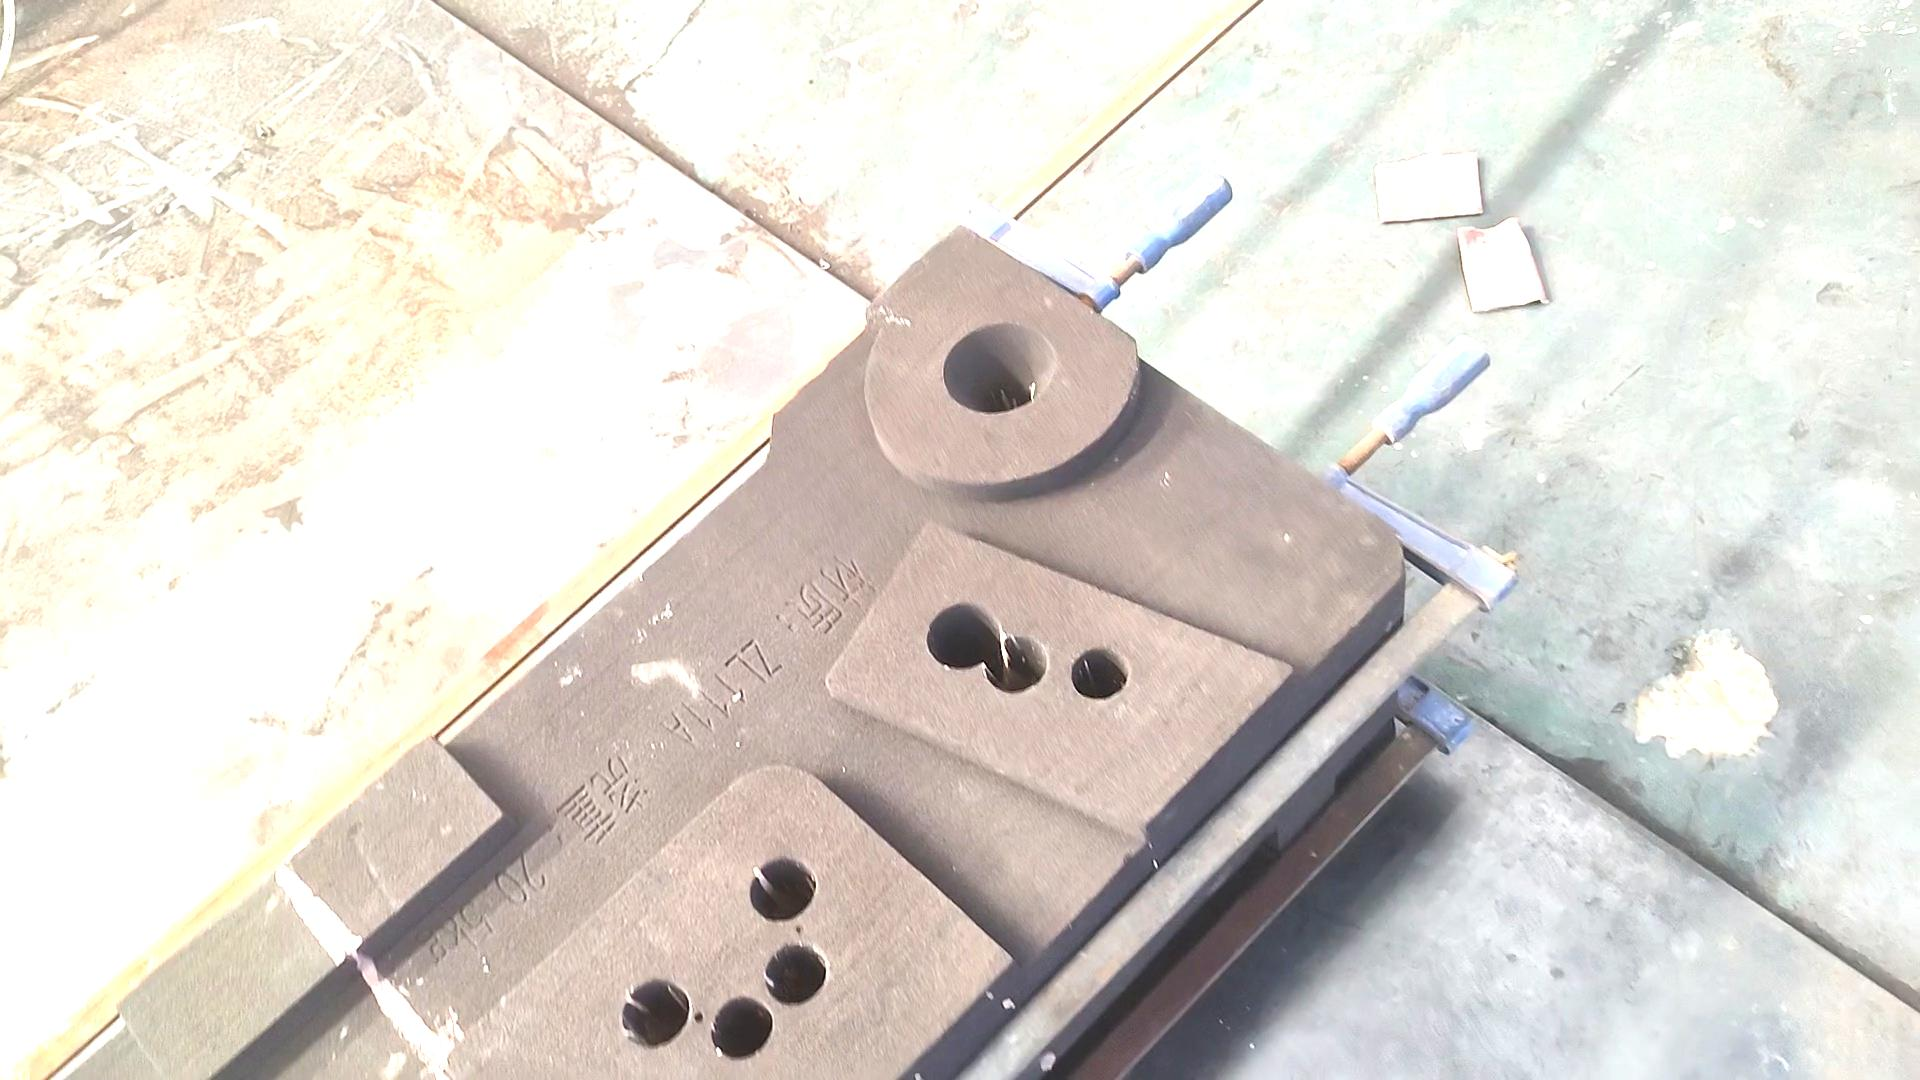pouring hole: (944, 320, 1056, 415)
